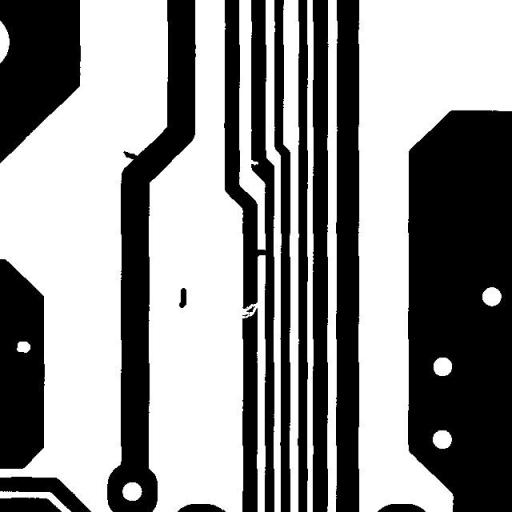copper: (171, 280, 194, 315)
mousebite: (239, 152, 266, 173)
open: (228, 294, 266, 326)
pin-hole: (8, 334, 38, 360)
short: (244, 242, 274, 264)
spur: (115, 143, 146, 167)
